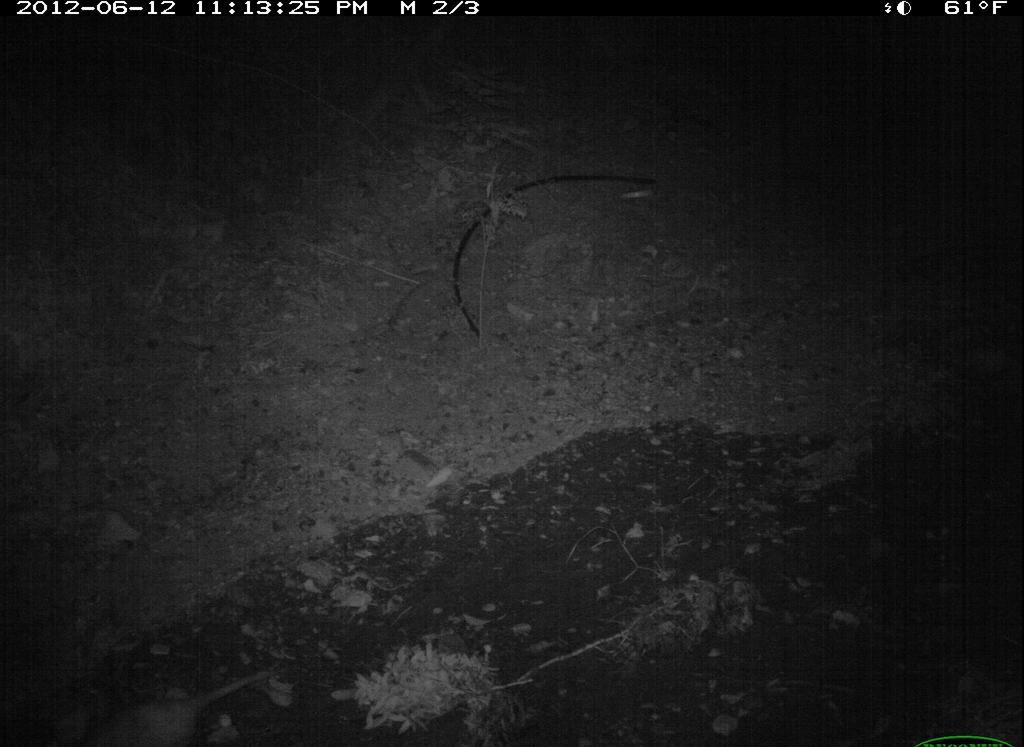opossum: (76, 662, 300, 747)
